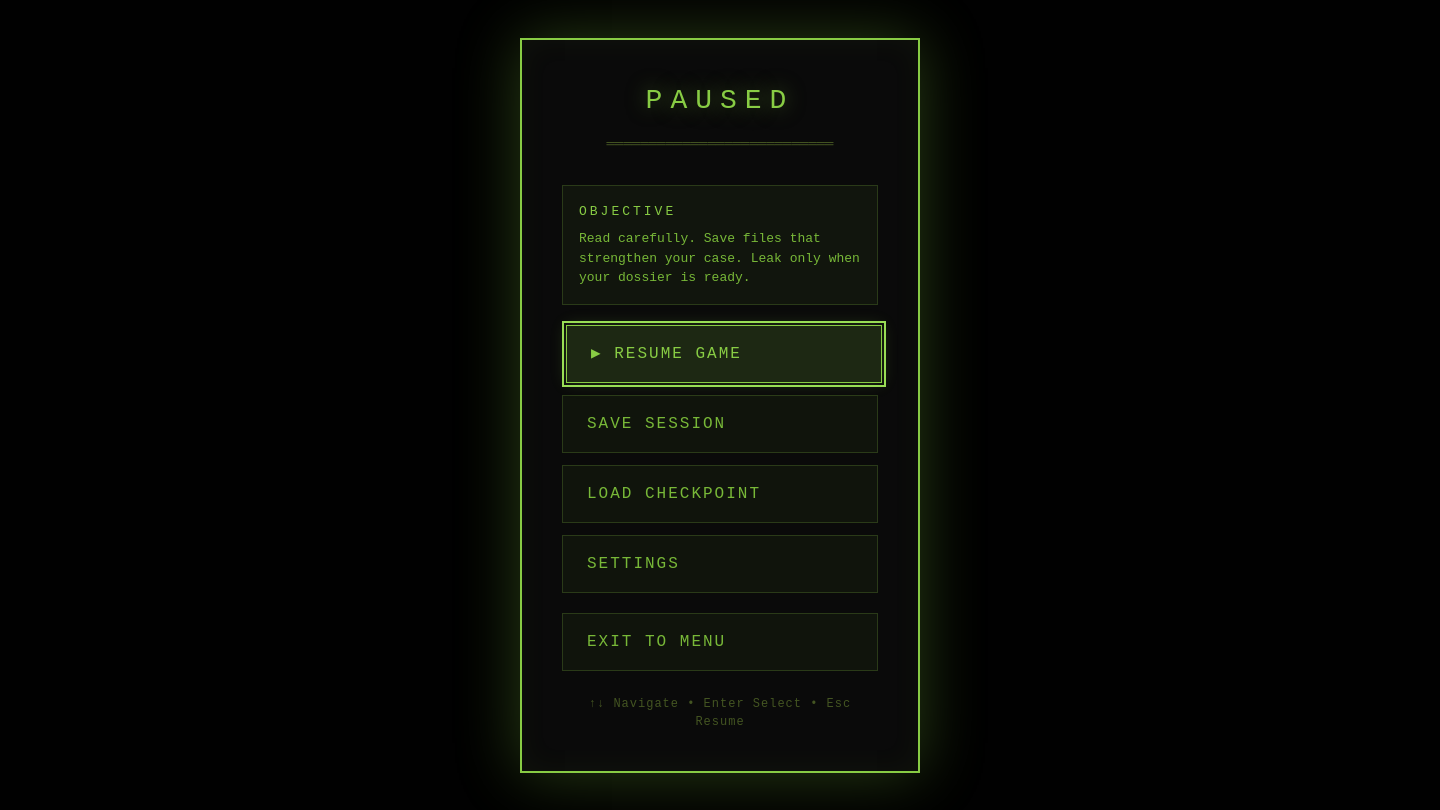
PauseMenu › Exit Confirmation › returns to pause menu on Escape from confirmation
Click the button "EXIT TO MENU" at (720, 642), box [562,612,878,670]
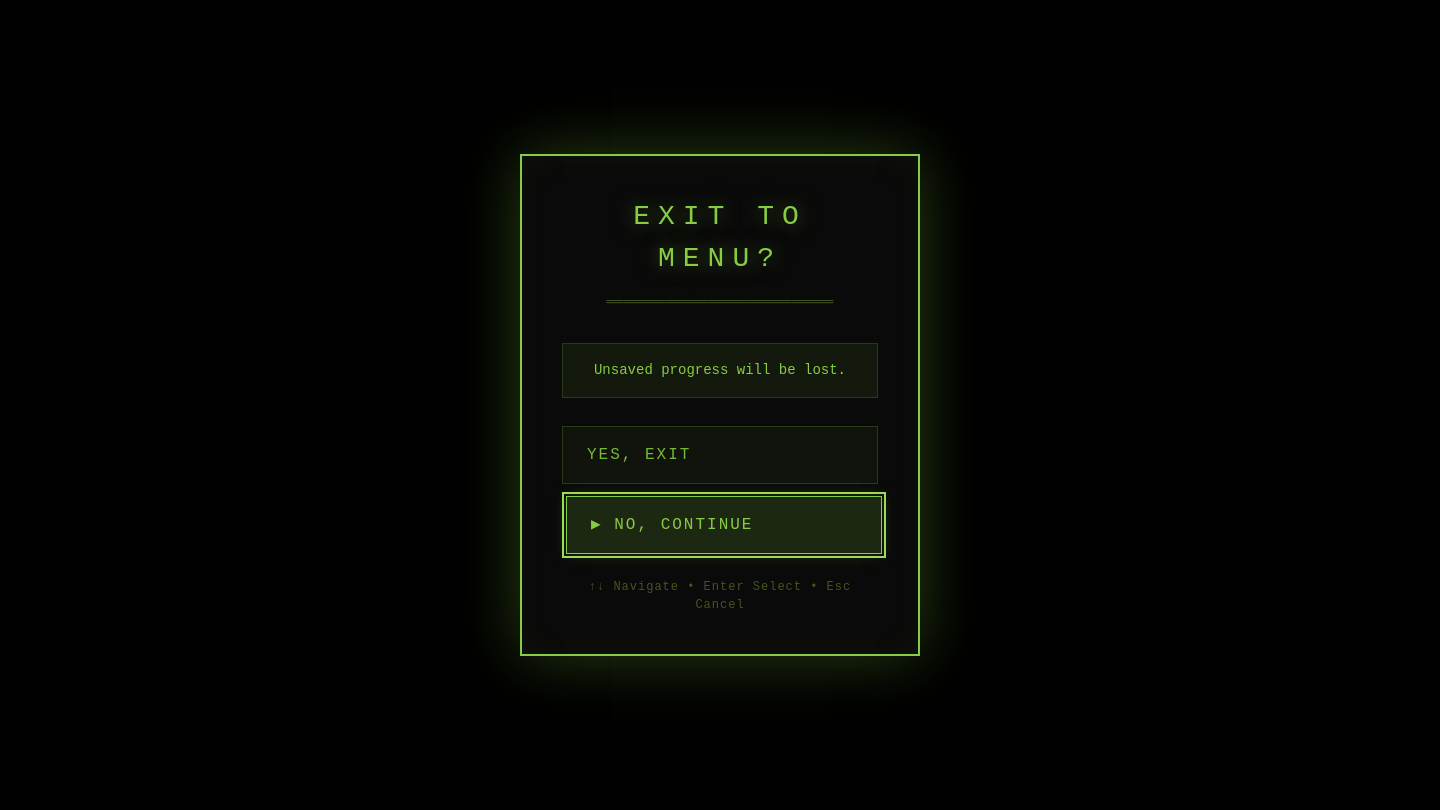
Press Escape
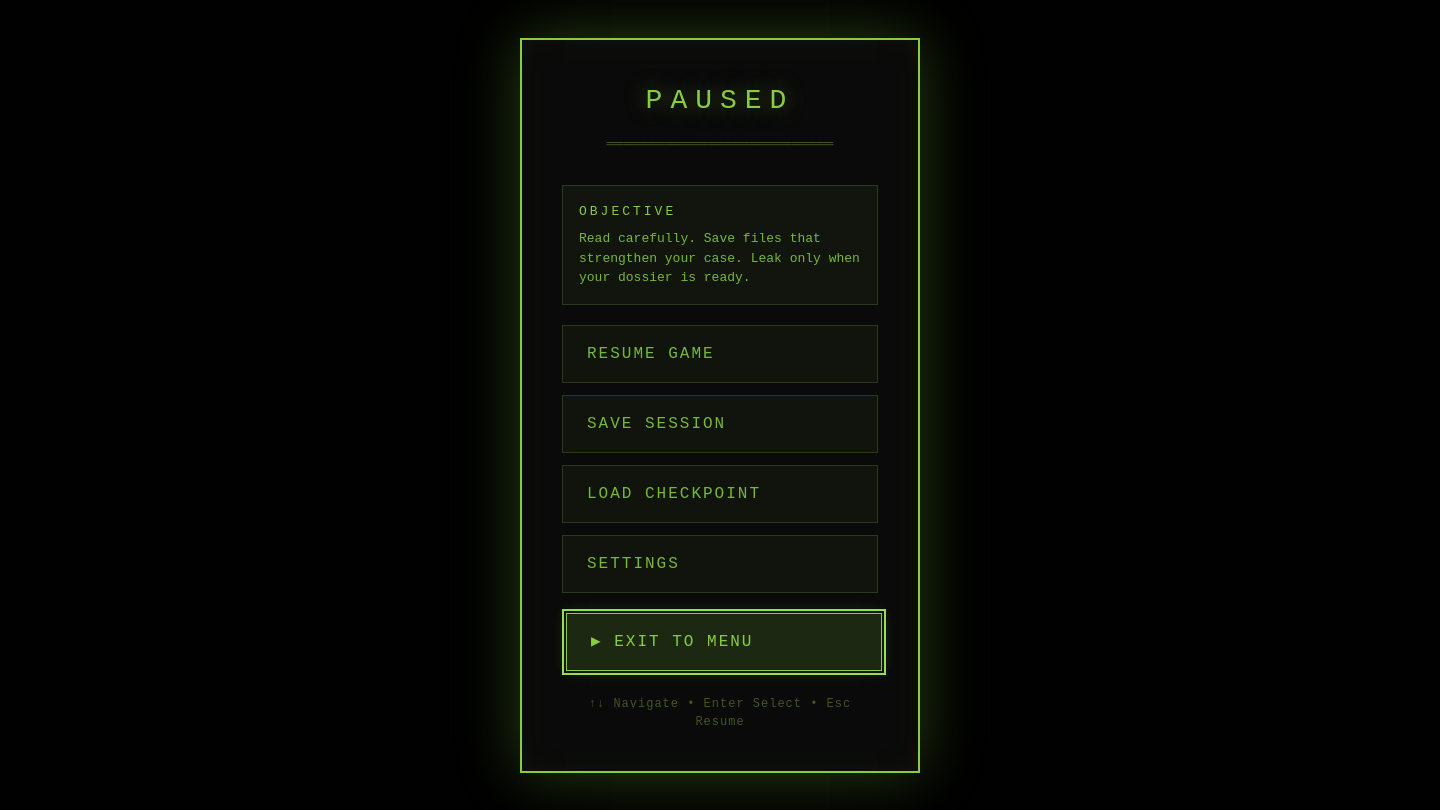
Expected: the heading "PAUSED" is shown, [646,84,794,116]
